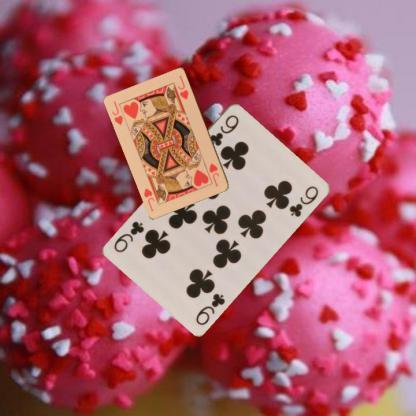9c: (206, 112, 240, 148), (192, 290, 226, 326)
Jh: (207, 160, 221, 188), (110, 99, 124, 126)
